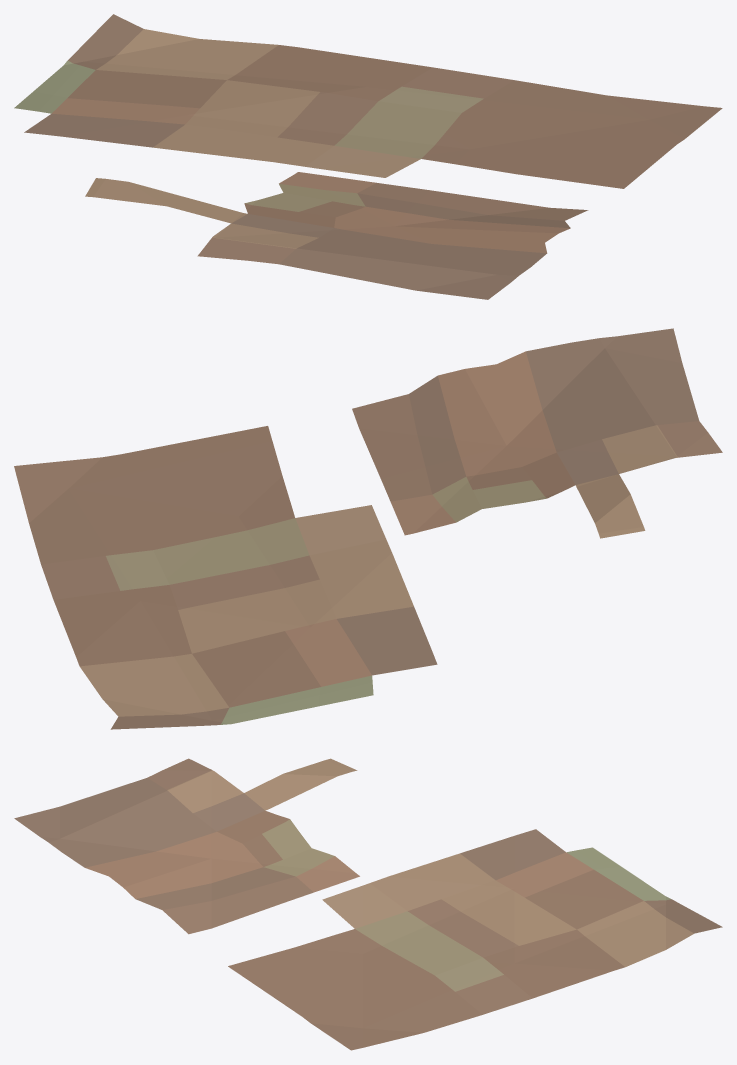
File: farm_0_13_soil.glb
3 views of the same model, one above another, from view 1: azimuth 30°, elevation 25°; view 2: azimuth 150°, elevation 25°; view 3: azimuth 270°, elevation 25° (orthographic). The views are drawn at different scales.
Parts seen in each view (by area): view 1: geometry_0; view 2: geometry_0; view 3: geometry_0.
Boxes of the visible parts, x1=… form: geometry_0: x1=14, y1=14, x2=722, y2=299; geometry_0: x1=14, y1=328, x2=722, y2=729; geometry_0: x1=14, y1=758, x2=722, y2=1050.
Size of the model in its own units: 291 by 44.01 by 374.
